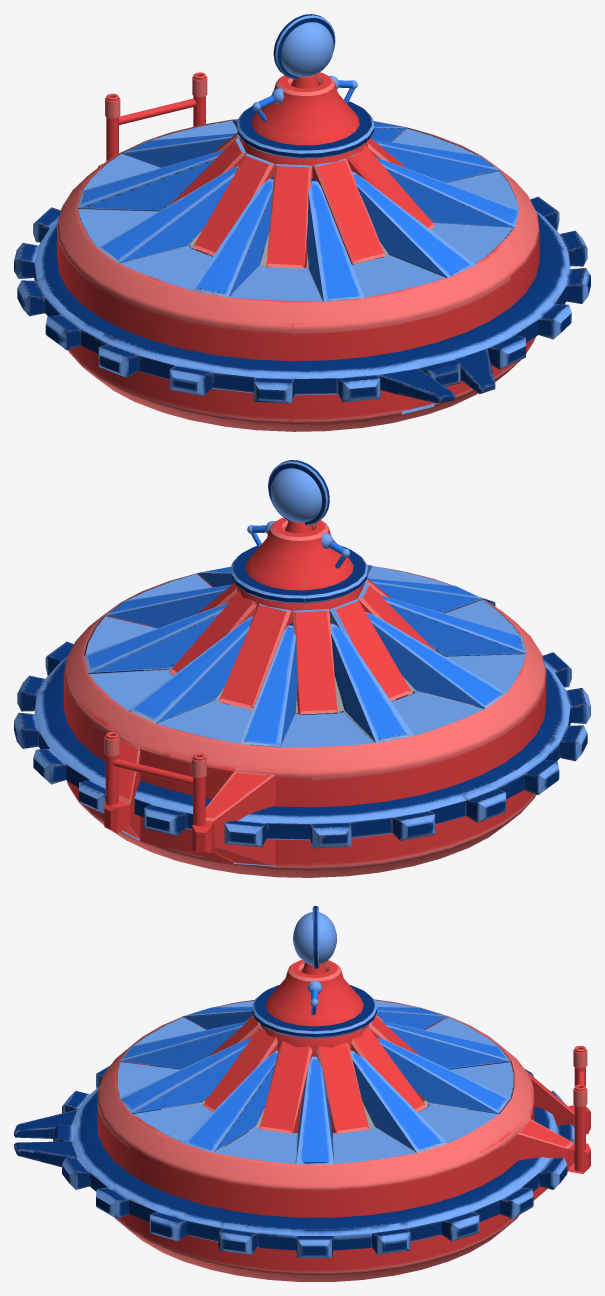
Rendered from player 2.fbx.
The picture shows the model from 3 angles, top to bottom: view 1: azimuth 30°, elevation 25°; view 2: azimuth 150°, elevation 25°; view 3: azimuth 270°, elevation 25°; orthographic projection. The views are drawn at different scales.
Parts seen in each view (by area): view 1: pasted__pPipe1 (×3), pasted__pasted__pPipe1, pPipe1, pPipe3, pPipe5, pSphere2, pSphere4, pasted__pasted__pPipe4 (×2), pPipe7; view 2: pasted__pPipe1 (×3), pasted__pasted__pPipe1 (×2), pPipe1, pPipe3, pPipe5, pSphere2, pSphere4, pasted__pasted__pPipe4 (×2), pPipe7, pasted__pPipe4, pCylinder1; view 3: pasted__pPipe1 (×3), pasted__pasted__pPipe1 (×2), pPipe1, pPipe3, pPipe5, pSphere2, pSphere4, pasted__pPipe4.
Boxes of the visible parts, bbox=[...] form: pasted__pPipe1 (×3): bbox=[14, 119, 590, 431]; pasted__pasted__pPipe1: bbox=[78, 120, 519, 301]; pPipe1: bbox=[169, 133, 434, 268]; pPipe3: bbox=[258, 72, 352, 133]; pPipe5: bbox=[237, 101, 374, 158]; pSphere2: bbox=[243, 110, 367, 177]; pSphere4: bbox=[281, 22, 333, 77]; pasted__pasted__pPipe4 (×2): bbox=[106, 93, 196, 161]; pPipe7: bbox=[273, 14, 335, 79]; pasted__pPipe1 (×3): bbox=[14, 564, 590, 877]; pasted__pasted__pPipe1 (×2): bbox=[84, 566, 525, 865]; pPipe1: bbox=[169, 578, 435, 713]; pPipe3: bbox=[252, 517, 346, 578]; pPipe5: bbox=[230, 546, 367, 603]; pSphere2: bbox=[237, 554, 361, 622]; pSphere4: bbox=[270, 468, 322, 522]; pasted__pasted__pPipe4 (×2): bbox=[113, 753, 205, 825]; pPipe7: bbox=[268, 460, 329, 525]; pasted__pPipe4: bbox=[105, 732, 118, 805]; pCylinder1: bbox=[128, 666, 474, 744]; pasted__pPipe1 (×3): bbox=[14, 999, 574, 1281]; pasted__pasted__pPipe1 (×2): bbox=[118, 1000, 590, 1200]; pPipe1: bbox=[203, 1015, 427, 1138]; pPipe3: bbox=[271, 960, 357, 1015]; pPipe5: bbox=[252, 985, 376, 1038]; pSphere2: bbox=[260, 993, 368, 1056]; pSphere4: bbox=[293, 912, 336, 964]; pasted__pPipe4: bbox=[574, 1084, 585, 1171].
Bounding box in the file's own units: 3.3 × 2.03 × 3.64.
